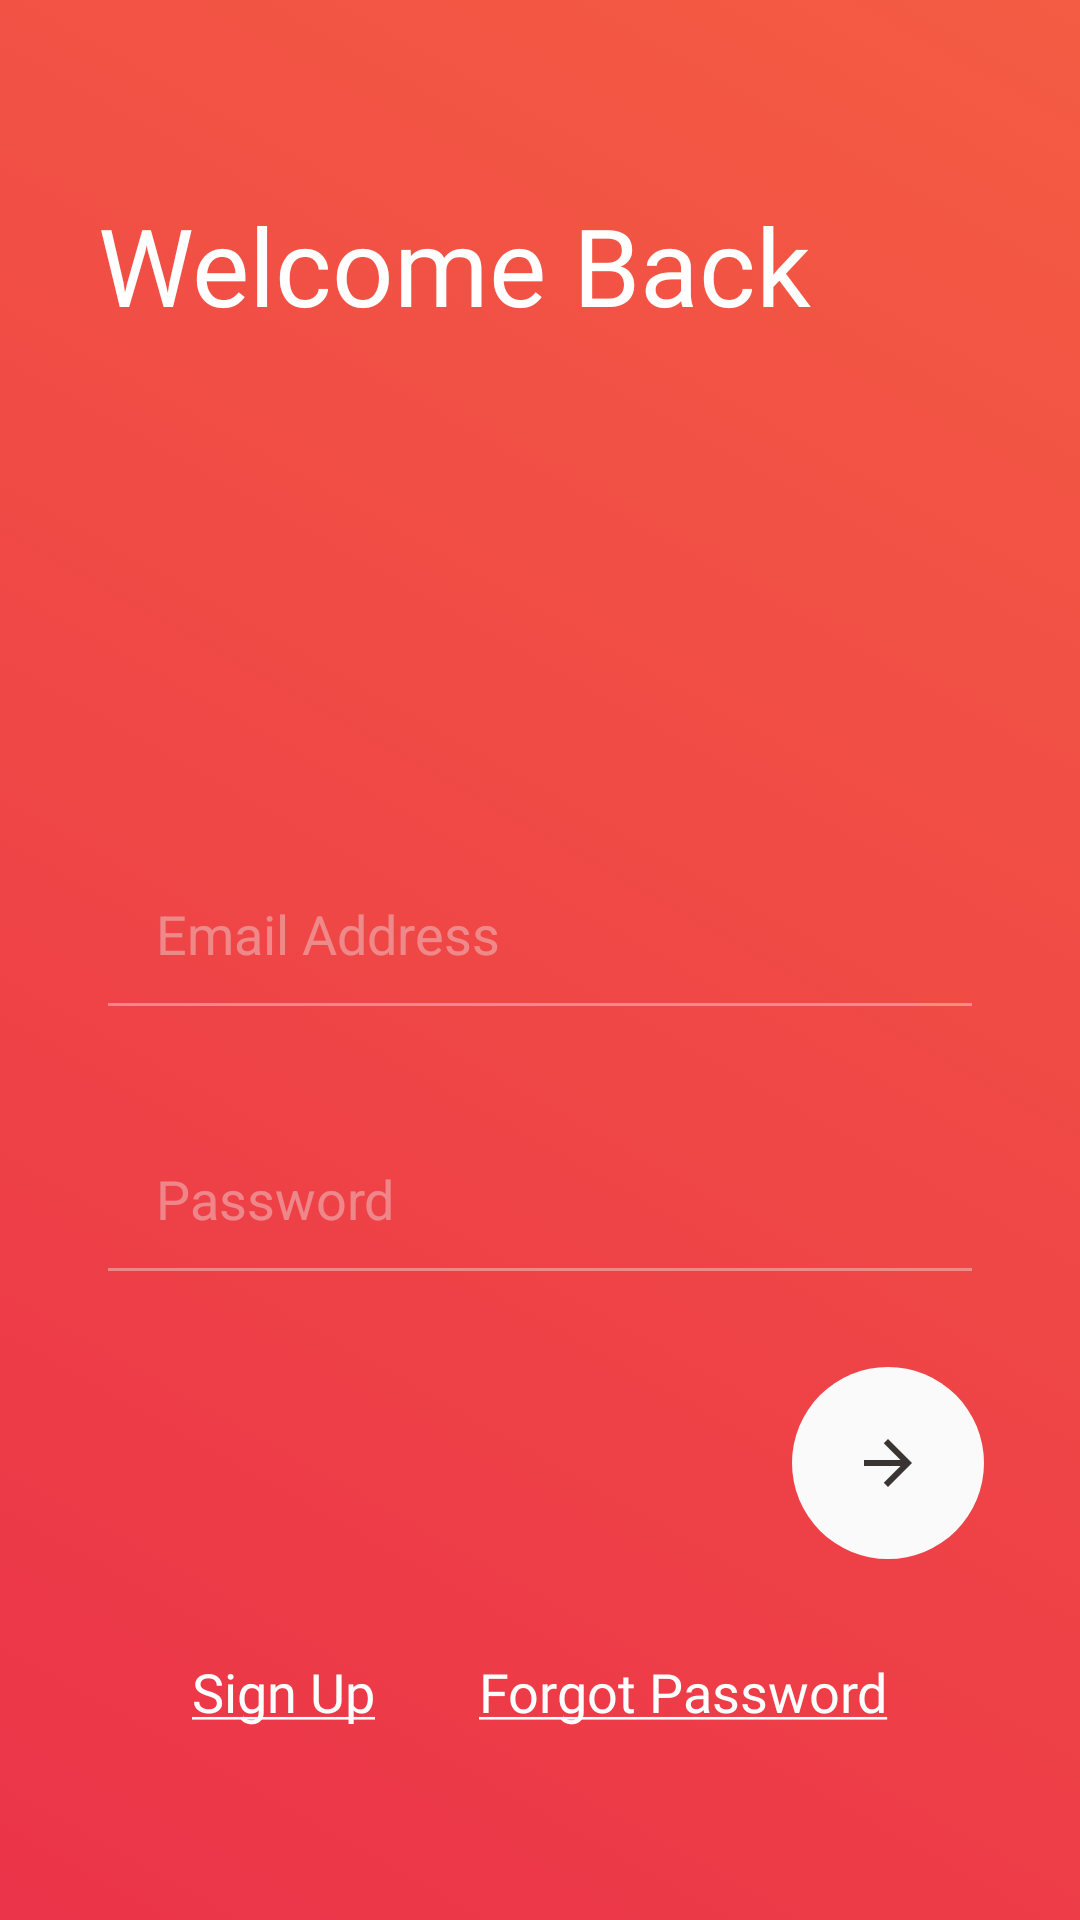

Icons on this 1080×1920 Android screen, each with its box as (x1, y1, x2, y2):
arrow right: (792, 1367, 984, 1559)
